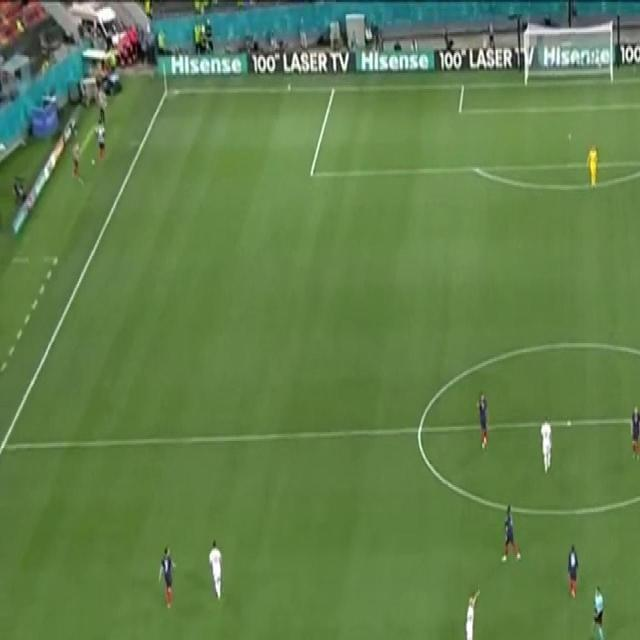Keeper: (586, 583, 608, 640)
another-player: (158, 542, 178, 613), (500, 503, 522, 565), (566, 542, 581, 600), (476, 390, 490, 450), (628, 403, 640, 462)
player-white: (207, 537, 224, 603), (463, 585, 481, 640), (539, 414, 553, 476)
referee: (585, 142, 601, 188)
